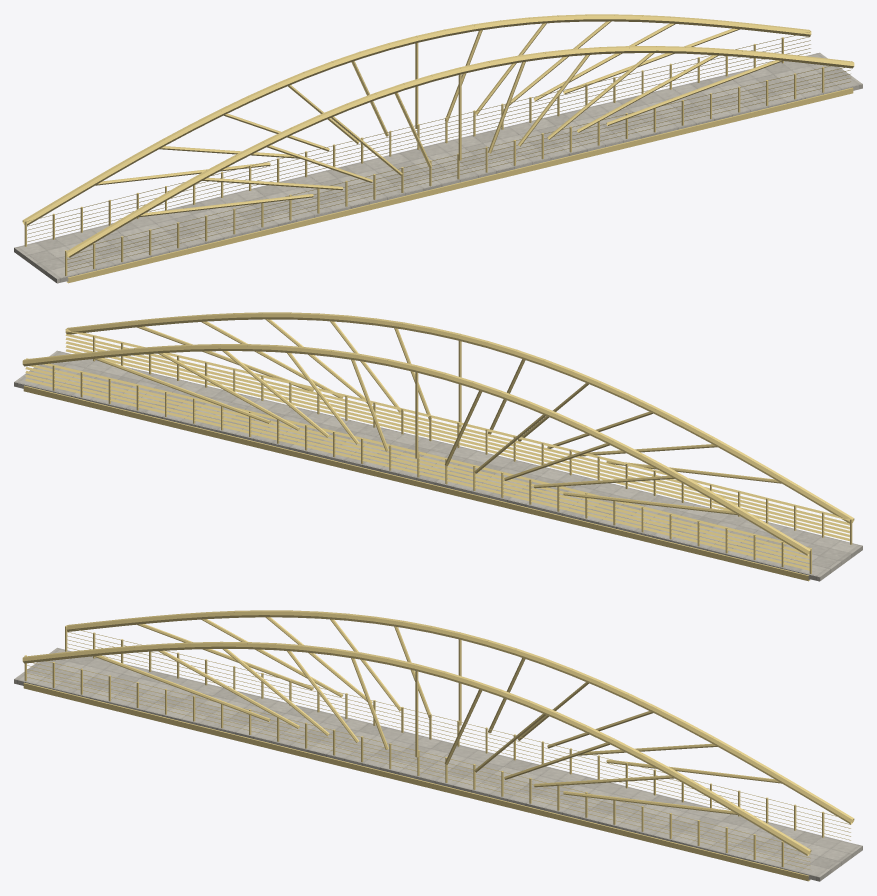
3 views of the same model, one above another, from view 1: azimuth 30°, elevation 25°; view 2: azimuth 150°, elevation 25°; view 3: azimuth 330°, elevation 25° (orthographic).
Parts seen in each view (by area): view 1: centralBridge__steel, centralBridge__stone, centralBridge__threshold-west; view 2: centralBridge__steel, centralBridge__stone, centralBridge__threshold-west; view 3: centralBridge__steel, centralBridge__stone, centralBridge__threshold-east.
Boxes of the visible parts, x1,y1,x2,y2 form: centralBridge__steel: (22, 14, 854, 283); centralBridge__stone: (27, 55, 852, 281); centralBridge__threshold-west: (14, 245, 67, 283); centralBridge__steel: (22, 312, 854, 581); centralBridge__stone: (24, 353, 849, 579); centralBridge__threshold-west: (809, 543, 862, 581); centralBridge__steel: (22, 610, 854, 881); centralBridge__stone: (24, 650, 851, 880); centralBridge__threshold-east: (809, 843, 862, 881).
Size of the model in its own units: 38.81 by 5.54 by 3.9.
Materials: 2 (1 with a texture image).
